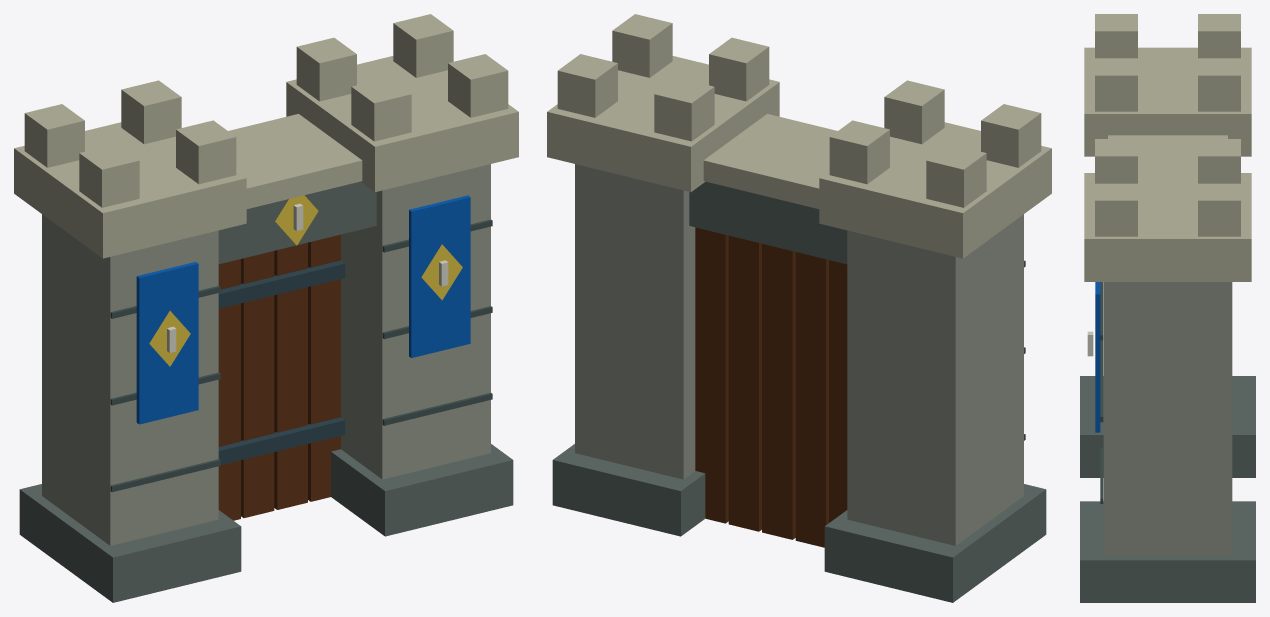
Rendered from castle_gate.fbx.
3 renders of one model, left to right at view 1: azimuth 30°, elevation 25°; view 2: azimuth 150°, elevation 25°; view 3: azimuth 270°, elevation 25°, orthographic. The views are drawn at different scales.
Parts seen in each view (by area): view 1: castle_gate; view 2: castle_gate; view 3: castle_gate.
Boxes of the visible parts, left/top/right/bottom form: castle_gate: left=14, top=14, right=518, bottom=602; castle_gate: left=547, top=14, right=1051, bottom=602; castle_gate: left=1080, top=14, right=1255, bottom=602.
Size of the model in its own units: 2.11 by 2.08 by 0.82.
